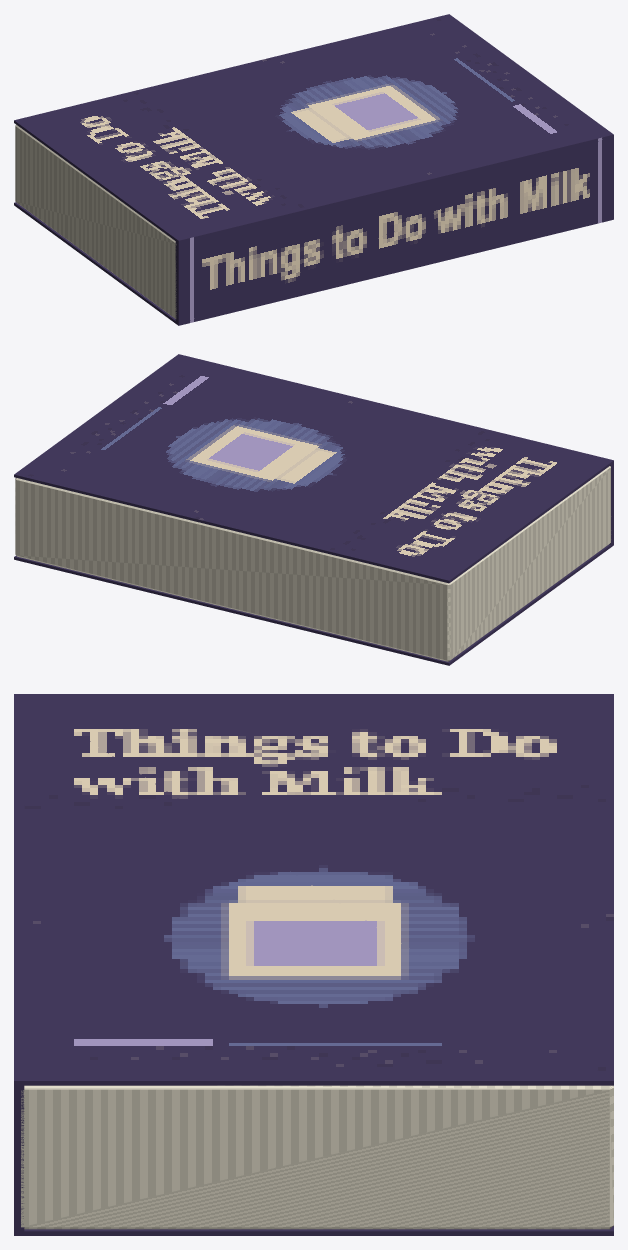
Rendered from dairy_book.glb.
3 views of the same model, one above another, from view 1: azimuth 30°, elevation 25°; view 2: azimuth 150°, elevation 25°; view 3: azimuth 270°, elevation 25° (orthographic). The views are drawn at different scales.
Visible parts, largest first — view 1: block_front, block_spine, block_pages, block_back; view 2: block_front, block_pages, block_back, block_spine; view 3: block_front, block_pages, block_spine, block_back.
Boxes of the visible parts, x1,y1,x2,y2 form: block_front: (14,14,610,242); block_spine: (175,132,613,325); block_pages: (15,124,176,318); block_back: (14,202,177,324); block_front: (14,355,613,583); block_pages: (15,466,610,661); block_back: (14,543,613,665); block_spine: (176,354,613,545); block_front: (16,694,613,1085); block_pages: (21,1085,613,1229); block_spine: (14,694,24,1235); block_back: (16,1226,613,1235).
Bounding box in the file's own units: 0.247 × 0.0461 × 0.1618.
Materials: 1 (1 with a texture image).
